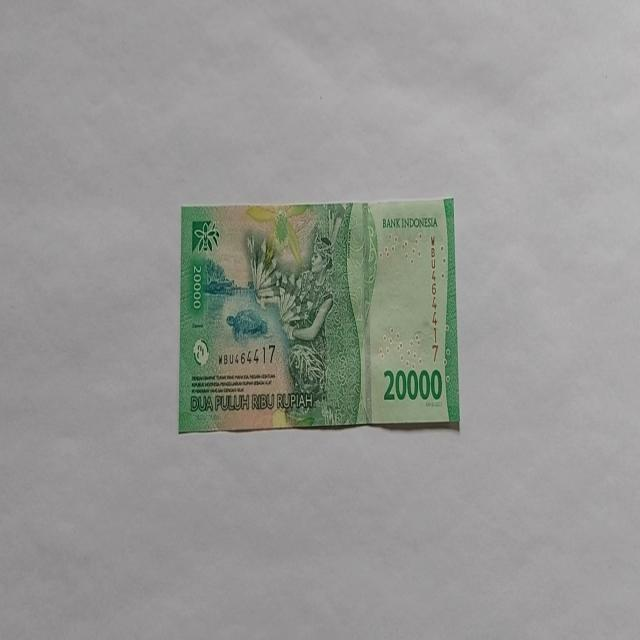dua puluh ribu rupiah: (178, 196, 460, 434)
